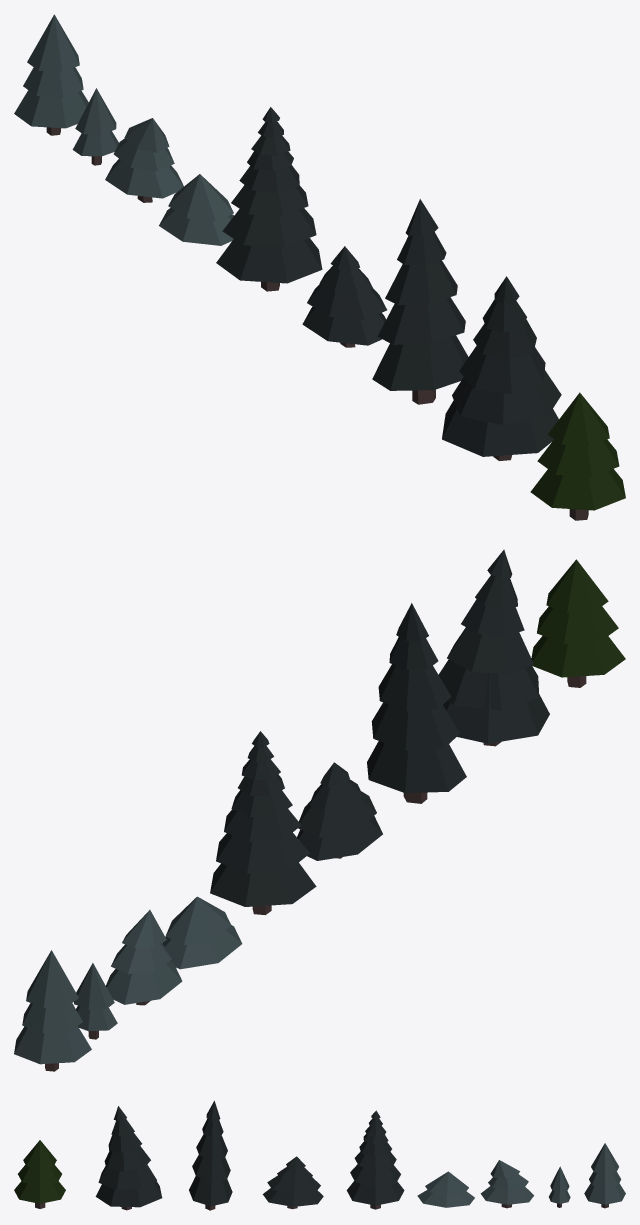
File: Trees2.fbx
The picture shows the model from 3 angles, top to bottom: view 1: azimuth 30°, elevation 25°; view 2: azimuth 150°, elevation 25°; view 3: azimuth 270°, elevation 25°; orthographic projection. The views are drawn at different scales.
Visible parts, largest first — view 1: Tree08, Tree05, Tree07, Tree04, Tree02, Tree06, Tree01, Tree03, Tree00; view 2: Tree08, Tree05, Tree07, Tree04, Tree02, Tree06, Tree01, Tree03, Tree00; view 3: Tree08, Tree07, Tree05, Tree04, Tree02, Tree06, Tree01, Tree03, Tree00.
Boxes of the visible parts, x1,y1,x2,y2 form: Tree08: (442,276,561,460); Tree05: (372,199,468,404); Tree07: (216,107,322,291); Tree04: (530,392,625,520); Tree02: (302,246,386,347); Tree06: (14,14,88,135); Tree01: (105,118,183,202); Tree03: (159,174,233,245); Tree00: (72,88,118,165); Tree08: (438,549,549,746); Tree05: (367,603,466,803); Tree07: (210,731,316,915); Tree04: (531,559,625,687); Tree02: (297,762,382,860); Tree06: (14,950,91,1071); Tree01: (106,910,182,1005); Tree03: (162,896,242,969); Tree00: (74,963,117,1039); Tree08: (95,1106,162,1210); Tree07: (346,1110,404,1209); Tree05: (189,1100,232,1210); Tree04: (14,1140,65,1208); Tree02: (262,1156,323,1209); Tree06: (584,1143,625,1208); Tree01: (480,1160,533,1208); Tree03: (417,1171,474,1207); Tree00: (549,1166,570,1207).
Bounding box in the file's own units: 557 × 982 × 5067.
